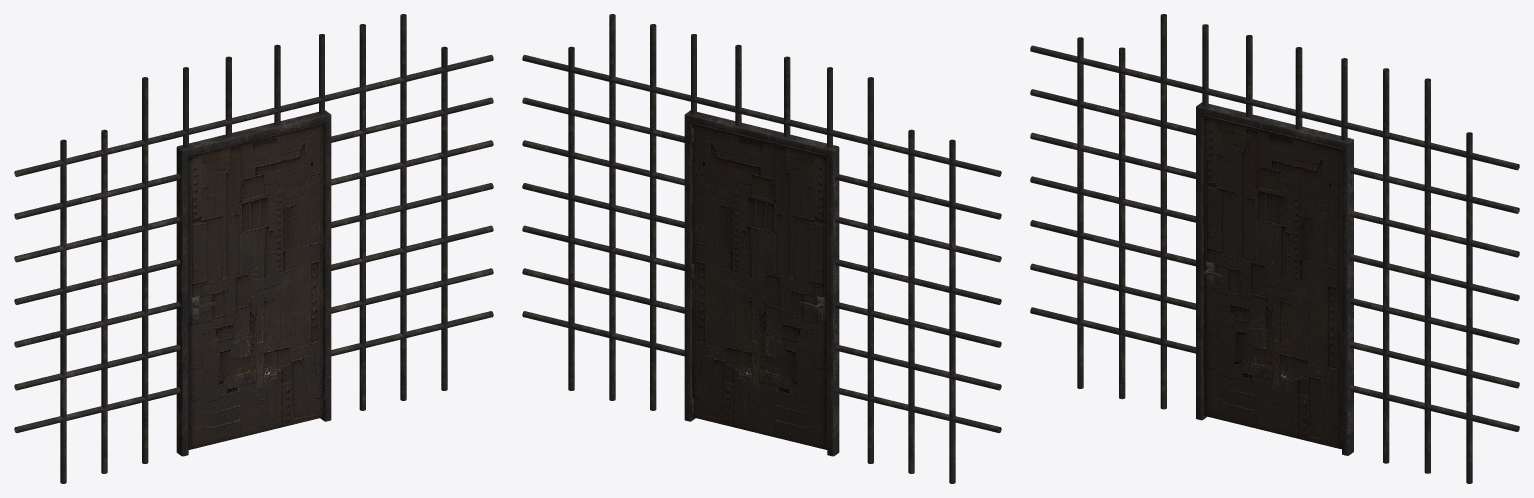
The model's file is bars_metal_4.glb.
3 renders of one model, left to right at view 1: azimuth 30°, elevation 25°; view 2: azimuth 150°, elevation 25°; view 3: azimuth 330°, elevation 25°, orthographic. The views are drawn at different scales.
Parts seen in each view (by area): view 1: bars_metal_4, door_6; view 2: bars_metal_4, door_6; view 3: door_6, bars_metal_4.
Part boxes in pixels (bbox=[...]): bars_metal_4: bbox=[14, 14, 493, 483]; door_6: bbox=[188, 123, 323, 449]; bars_metal_4: bbox=[522, 14, 1001, 483]; door_6: bbox=[690, 123, 827, 449]; door_6: bbox=[1203, 115, 1341, 449]; bars_metal_4: bbox=[1030, 14, 1519, 483].
Size of the model in its own units: 3.5 by 2.7 by 0.194.
4 materials, 4 textured.
